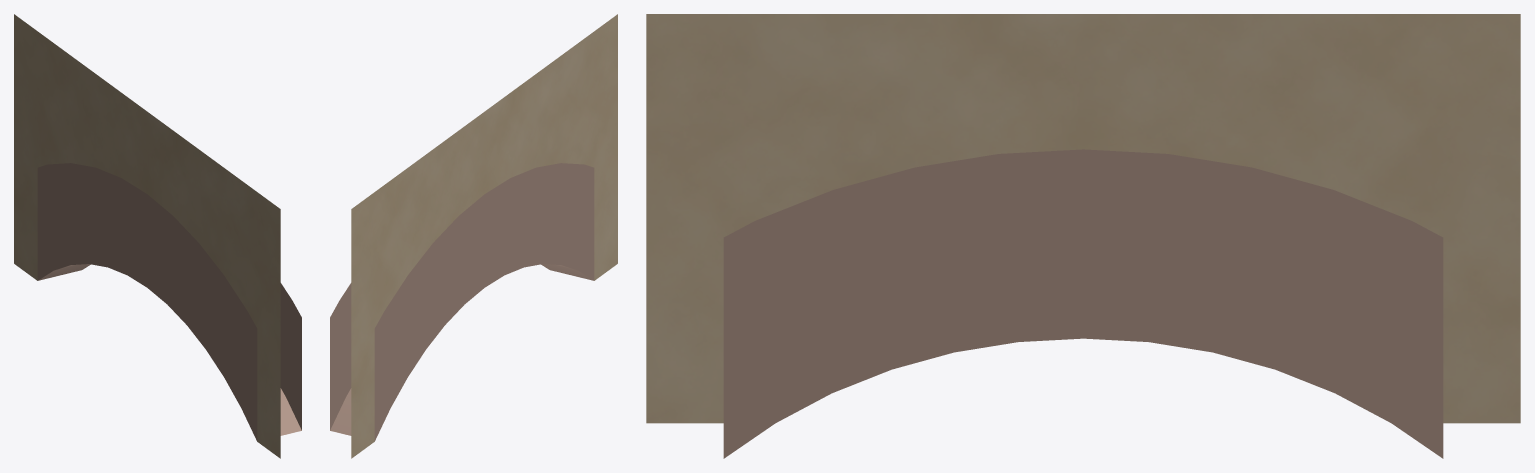
Rendered from ArchEndA01.fbx.
3 views of the same model, side by side, from view 1: azimuth 30°, elevation 25°; view 2: azimuth 150°, elevation 25°; view 3: azimuth 270°, elevation 25° (orthographic). The views are drawn at different scales.
Visible parts, largest first — view 1: ArchEndA01; view 2: ArchEndA01; view 3: ArchEndA01.
Boxes of the visible parts, x1=… form: ArchEndA01: x1=14, y1=14, x2=301, y2=458; ArchEndA01: x1=330, y1=14, x2=617, y2=458; ArchEndA01: x1=646, y1=14, x2=1520, y2=458.
Bounding box in the file's own units: 0.4572 × 2.44 × 4.72.
